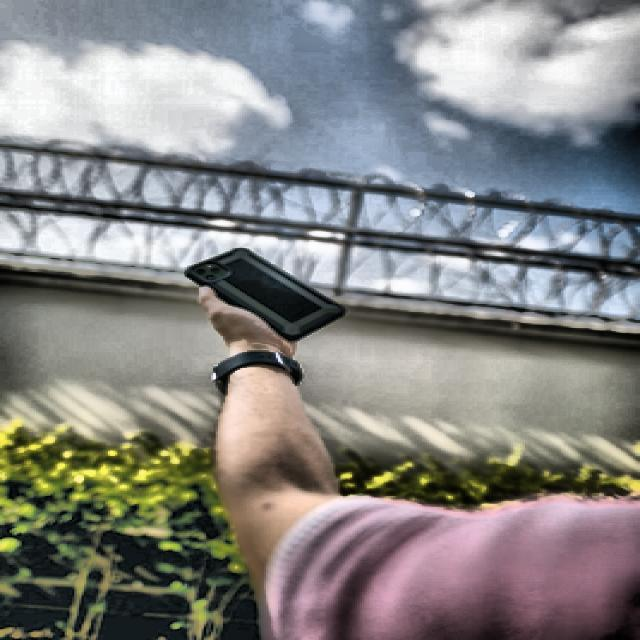Phone: (182, 248, 345, 342)
